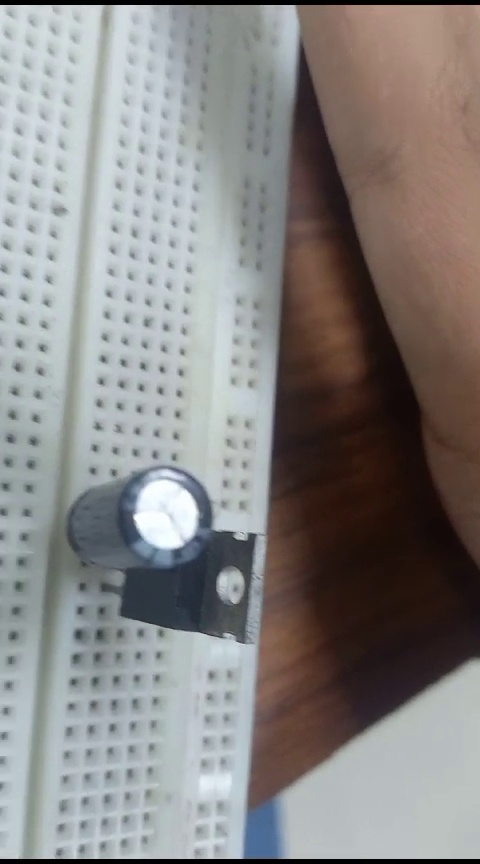capacitor: (70, 461, 211, 584)
voltage regulator: (132, 532, 263, 637)
